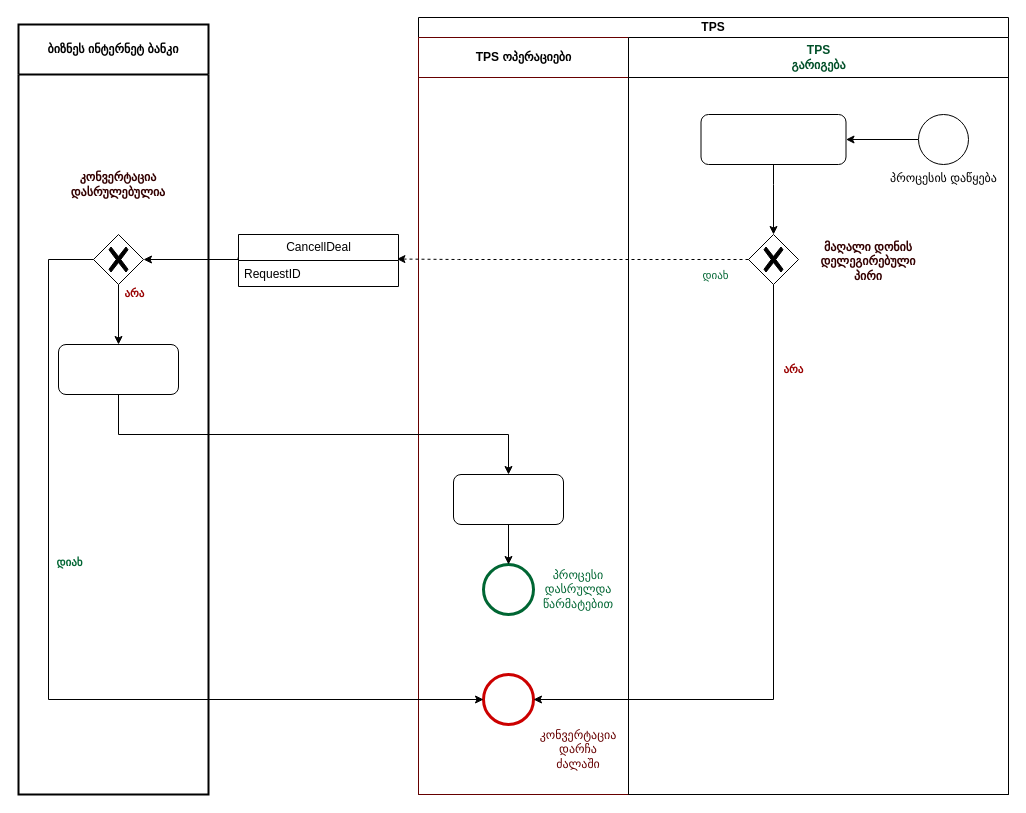
This 1026x813 diagram has some shape labels left out. The shapes that lost their labels are listed below. From the top down, each one's centre as x and y in pixels, then its label:
At pixel 773 139: "ძებნა შეთანხმებულ მაგრამ დაუსრულებელ განაცხადებში".
At pixel 118 369: "კონვერტაციის გატარების გაუქმება".
At pixel 508 499: "სტატუსის შეცვლა".
